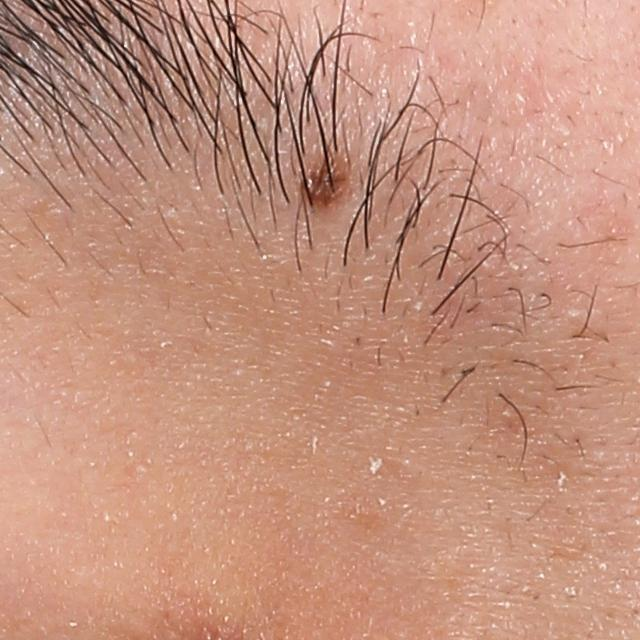nevus: (296, 146, 350, 213)
